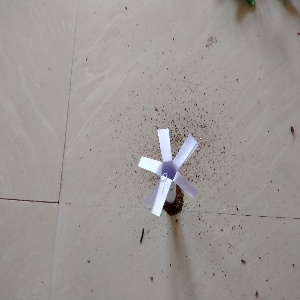weed: (140, 128, 196, 213)
